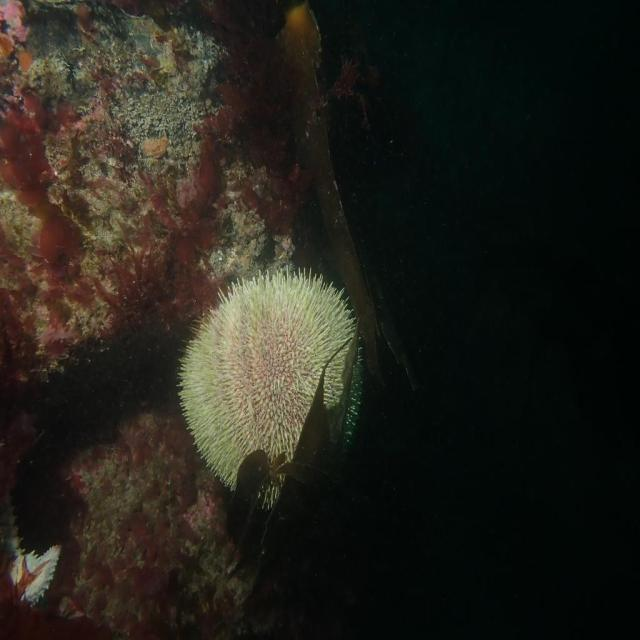Deniz Kestanesi: (175, 264, 364, 512)
